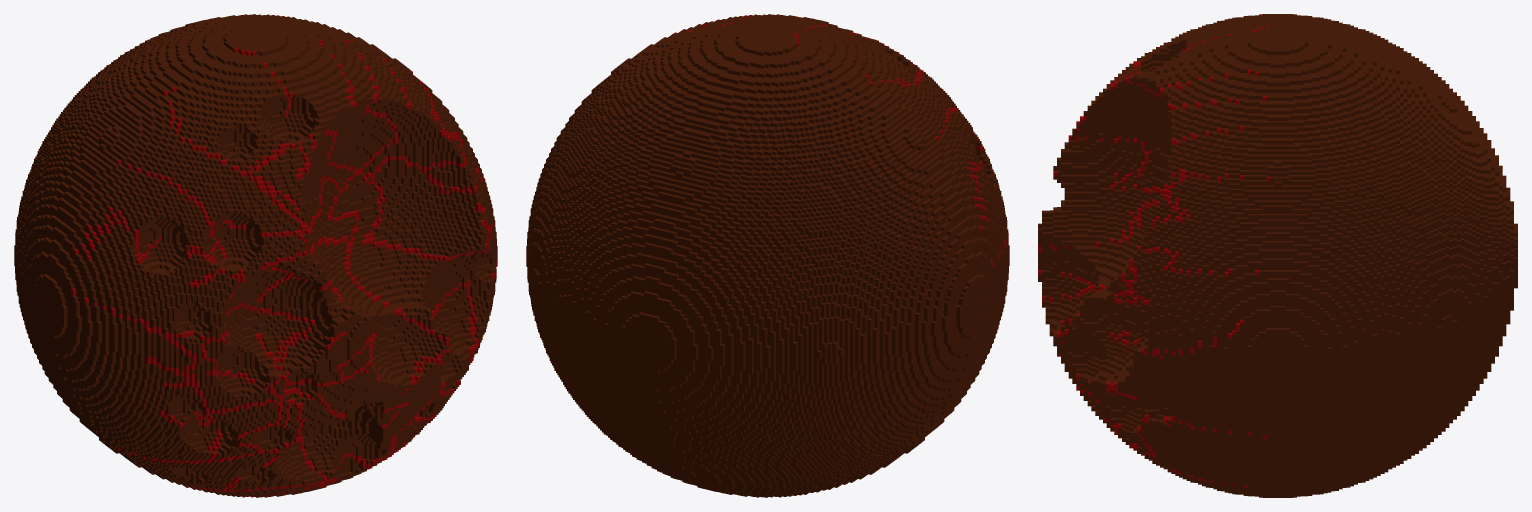
File: Meteor.FBX
3 renders of one model, left to right at view 1: azimuth 30°, elevation 25°; view 2: azimuth 150°, elevation 25°; view 3: azimuth 270°, elevation 25°, orthographic.
Visible parts, largest first — view 1: default; view 2: default; view 3: default.
Boxes of the visible parts, box(x1,y1,x2,y2) form: default: box(14, 14, 497, 497); default: box(526, 14, 1009, 497); default: box(1038, 14, 1517, 497).
Size of the model in its own units: 126 by 126 by 126.
